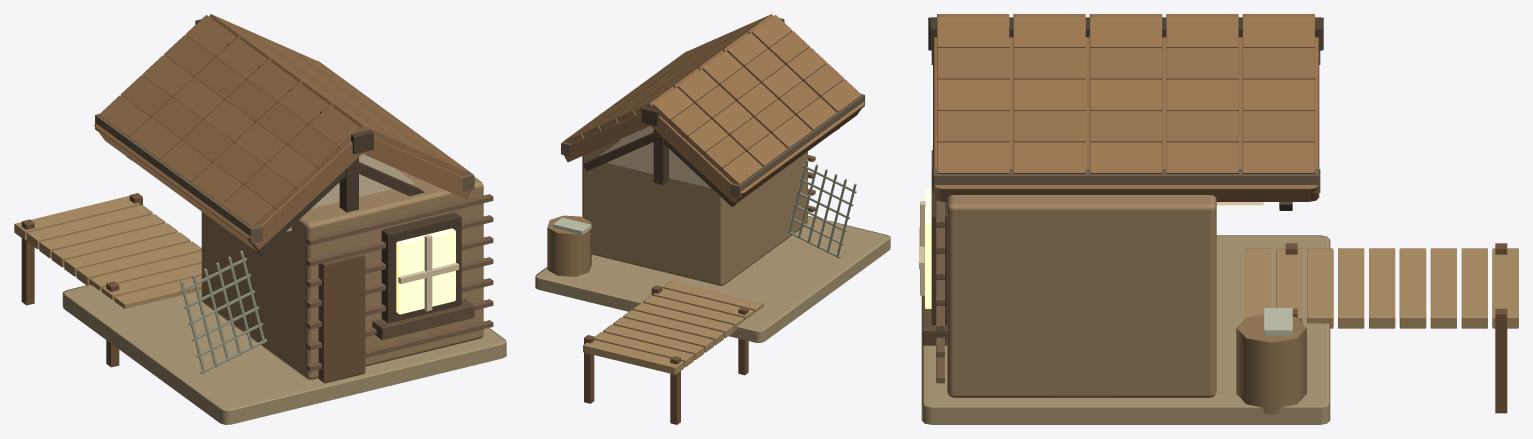
Rendered from fishinghut-0.glb.
The picture shows the model from 3 angles, left to right: view 1: azimuth 30°, elevation 25°; view 2: azimuth 150°, elevation 25°; view 3: azimuth 270°, elevation 25°; orthographic projection. The views are drawn at different scales.
Parts seen in each view (by area): view 1: fishinghut-0-0; view 2: fishinghut-0-0; view 3: fishinghut-0-0.
Boxes of the visible parts, x1,y1,x2,y2 form: fishinghut-0-0: (14, 14, 506, 424); fishinghut-0-0: (535, 14, 890, 424); fishinghut-0-0: (919, 14, 1518, 424).
Bounding box in the file's own units: 1.87 × 1.97 × 2.72.
